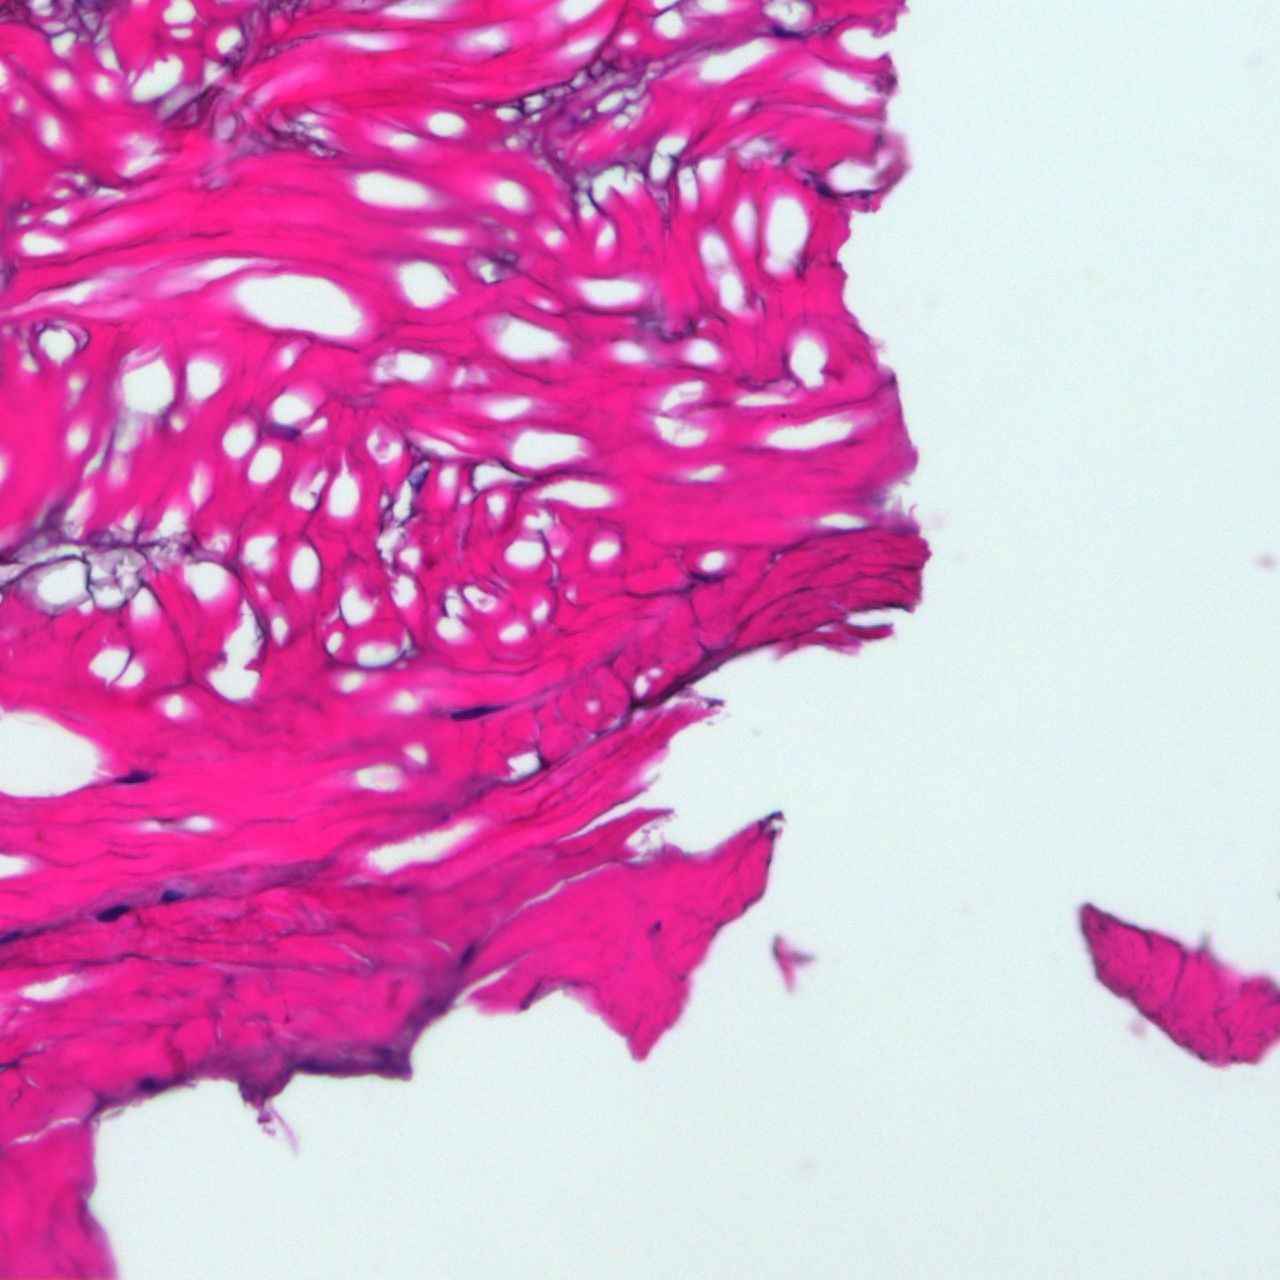nucleus-HE: (448, 700, 509, 723), (95, 903, 131, 925), (813, 182, 832, 199), (161, 888, 183, 903), (118, 774, 150, 783), (139, 1077, 158, 1091), (772, 28, 799, 38)
